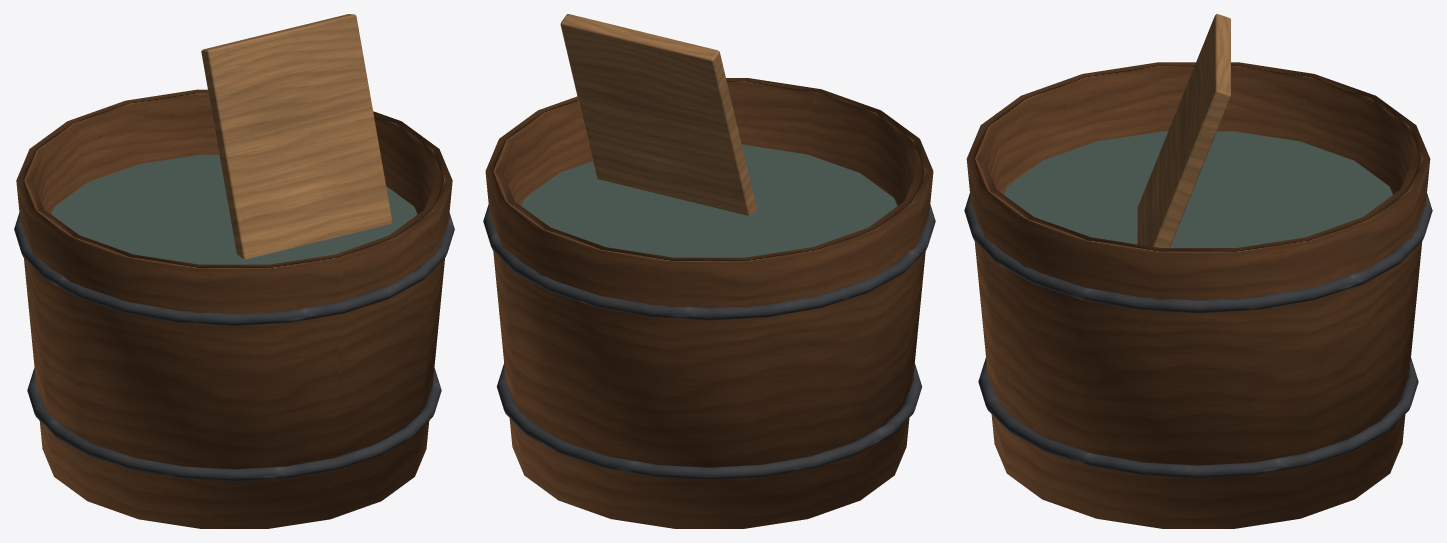
The model's file is washtub.glb.
3 views of the same model, side by side, from view 1: azimuth 30°, elevation 25°; view 2: azimuth 150°, elevation 25°; view 3: azimuth 270°, elevation 25° (orthographic). The views are drawn at different scales.
Visible parts, largest first — view 1: washtub; view 2: washtub; view 3: washtub.
Part boxes in pixels (x1,y1,x2,y2): washtub: (14,14,454,528); washtub: (483,14,935,528); washtub: (964,14,1432,528).
Bounding box in the file's own units: 0.8184 × 0.8123 × 0.8184.
4 materials, 3 textured.
